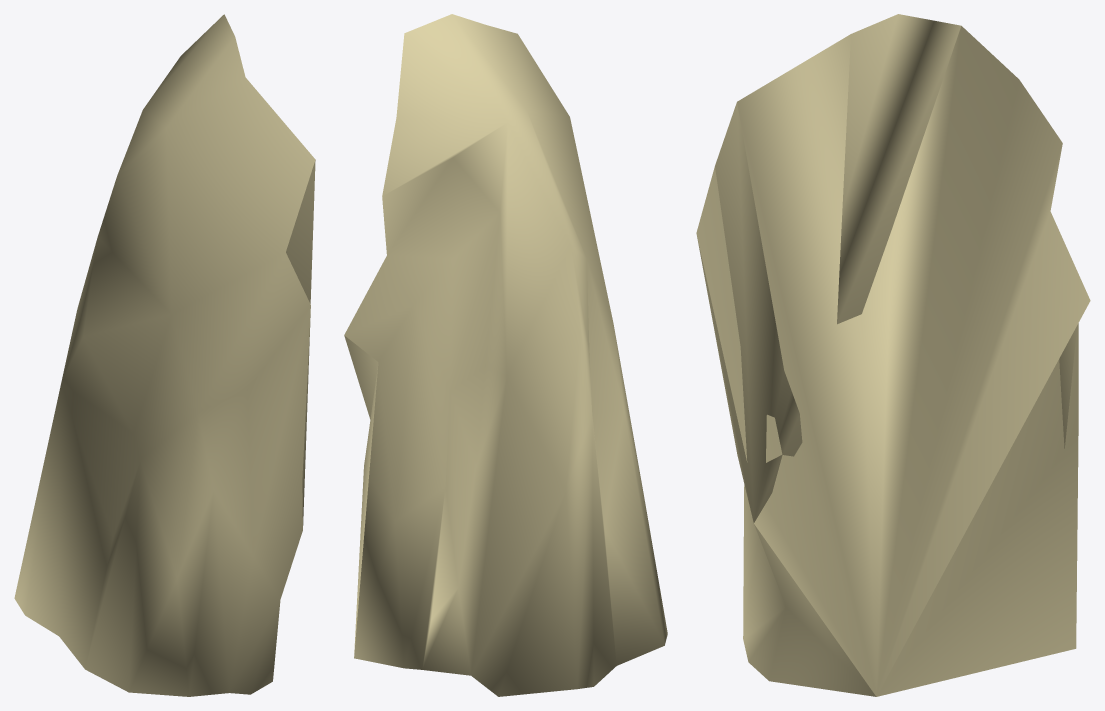
File: hombro-derecho.obj
The picture shows the model from 3 angles, left to right: view 1: azimuth 30°, elevation 25°; view 2: azimuth 150°, elevation 25°; view 3: azimuth 270°, elevation 25°; orthographic projection. The views are drawn at different scales.
Visible parts, largest first — view 1: model.034; view 2: model.034; view 3: model.034.
Boxes of the visible parts, x1=… form: model.034: x1=14, y1=14, x2=315, y2=696; model.034: x1=344, y1=14, x2=667, y2=696; model.034: x1=696, y1=14, x2=1090, y2=696.
Bounding box in the file's own units: 0.0322 × 0.0912 × 0.0481.
